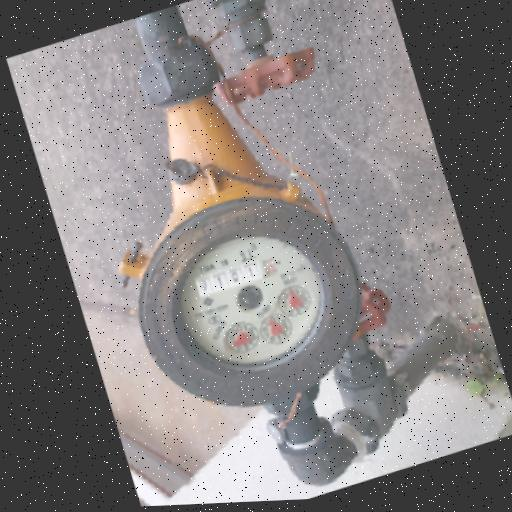0: (197, 276, 213, 294), (228, 267, 244, 284)
1: (213, 271, 228, 289), (245, 261, 260, 279)
4: (261, 257, 276, 275)
border_water_meter_number: (194, 255, 279, 298)
